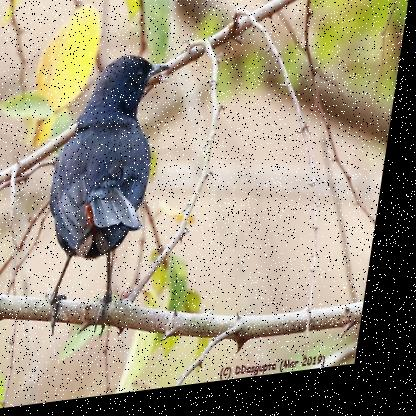Burung: (39, 54, 174, 345)
